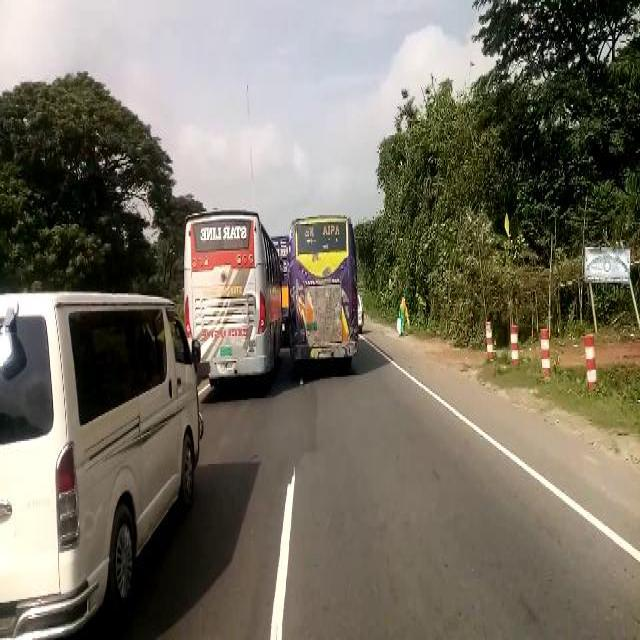Bus: (183, 212, 282, 373), (285, 207, 354, 365)
Micro-Bus: (1, 288, 206, 631)
